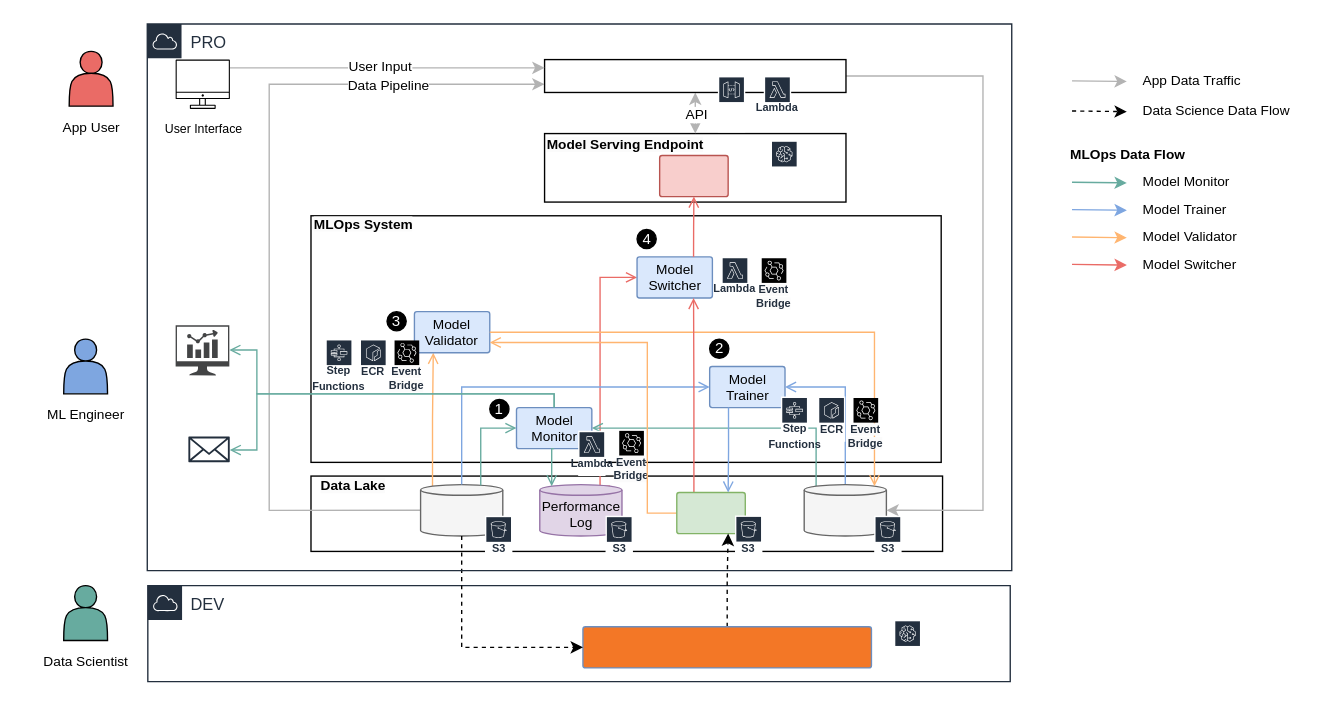
Some shapes in this 1341 by 706 pixel diagram are drawn without their labels. Each missing label, with the centre of its shape:
API Gateway: point (731, 103)
Application: point (694, 75)
Backup Model: point (710, 512)
Model Decay Alarms: point (208, 449)
Model Experiments: point (726, 646)
Model Inputs: point (461, 509)
Model Outputs: point (844, 509)
Online Model: point (693, 175)
Performance Dashboard: point (202, 350)
SageMaker Endpoint: point (783, 168)
SageMaker Notebook: point (907, 647)
